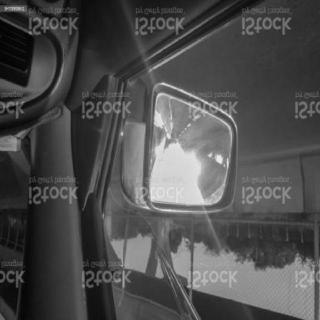other: (146, 130, 228, 203)
